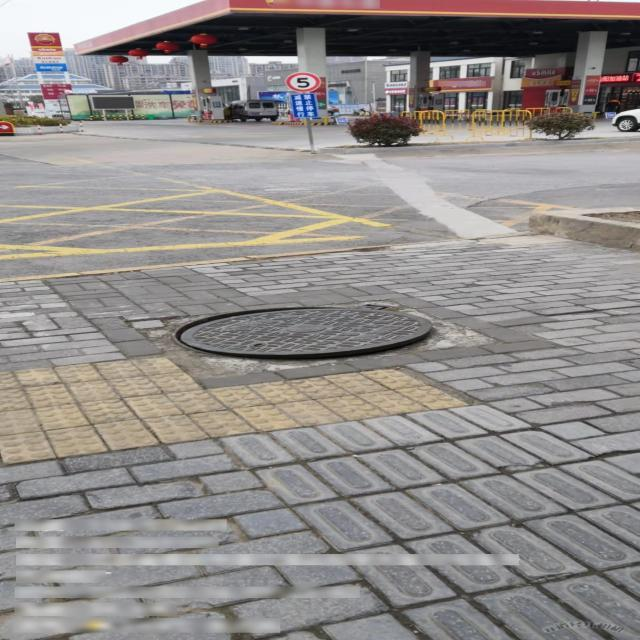Faulty: (177, 306, 436, 360)
